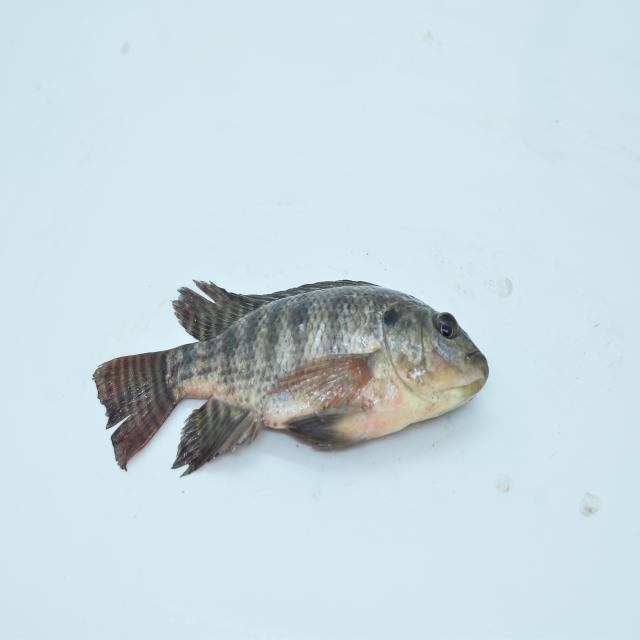Columnaris Disease: (59, 220, 510, 501)
